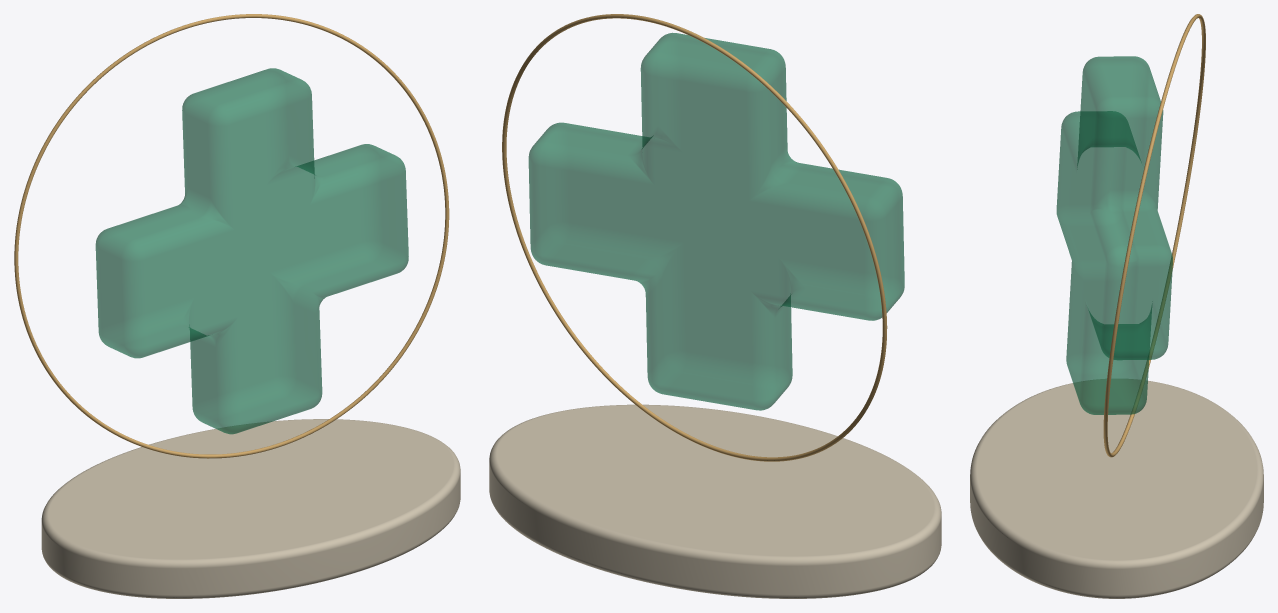
The model's file is cross-blender.glb.
3 renders of one model, left to right at view 1: azimuth 30°, elevation 25°; view 2: azimuth 150°, elevation 25°; view 3: azimuth 270°, elevation 25°, orthographic. The views are drawn at different scales.
Visible parts, largest first — view 1: PharmacyCross, Pedestal, OrbitHalo; view 2: PharmacyCross, Pedestal, OrbitHalo; view 3: Pedestal, PharmacyCross, OrbitHalo.
Boxes of the visible parts, x1=… form: PharmacyCross: x1=95, y1=68, x2=408, y2=434; Pedestal: x1=41, y1=419, x2=460, y2=598; OrbitHalo: x1=14, y1=14, x2=449, y2=458; PharmacyCross: x1=528, y1=32, x2=904, y2=410; Pedestal: x1=489, y1=404, x2=941, y2=598; OrbitHalo: x1=502, y1=14, x2=887, y2=461; Pedestal: x1=970, y1=379, x2=1263, y2=598; PharmacyCross: x1=1056, y1=56, x2=1172, y2=414; OrbitHalo: x1=1103, y1=14, x2=1205, y2=457.
Bounding box in the file's own units: 3.06 × 3.6 × 2.02.
